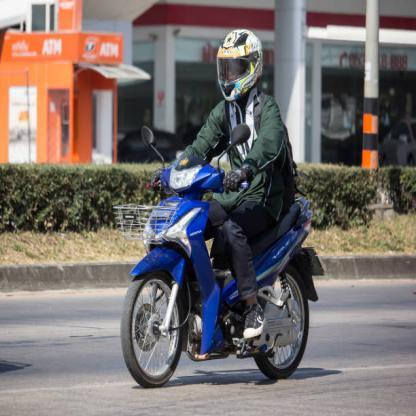Motorcycle: (117, 125, 319, 388)
